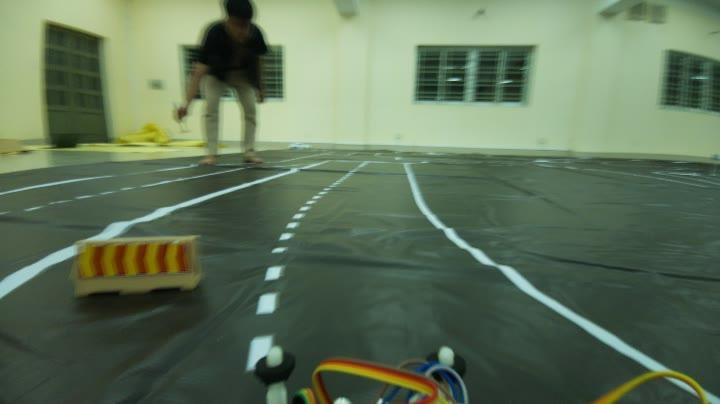roadblock: (68, 234, 213, 303)
